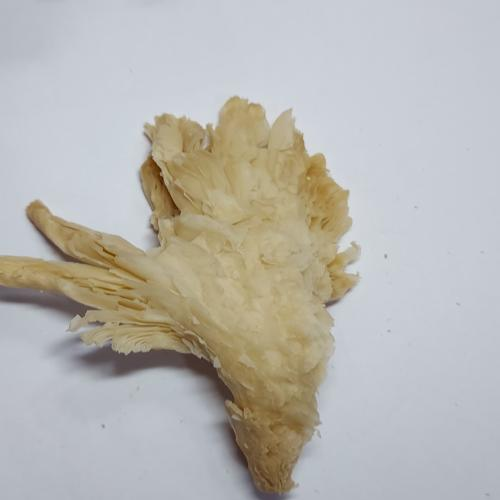Oyster Mushroom: (0, 19, 470, 500), (228, 264, 229, 265)
